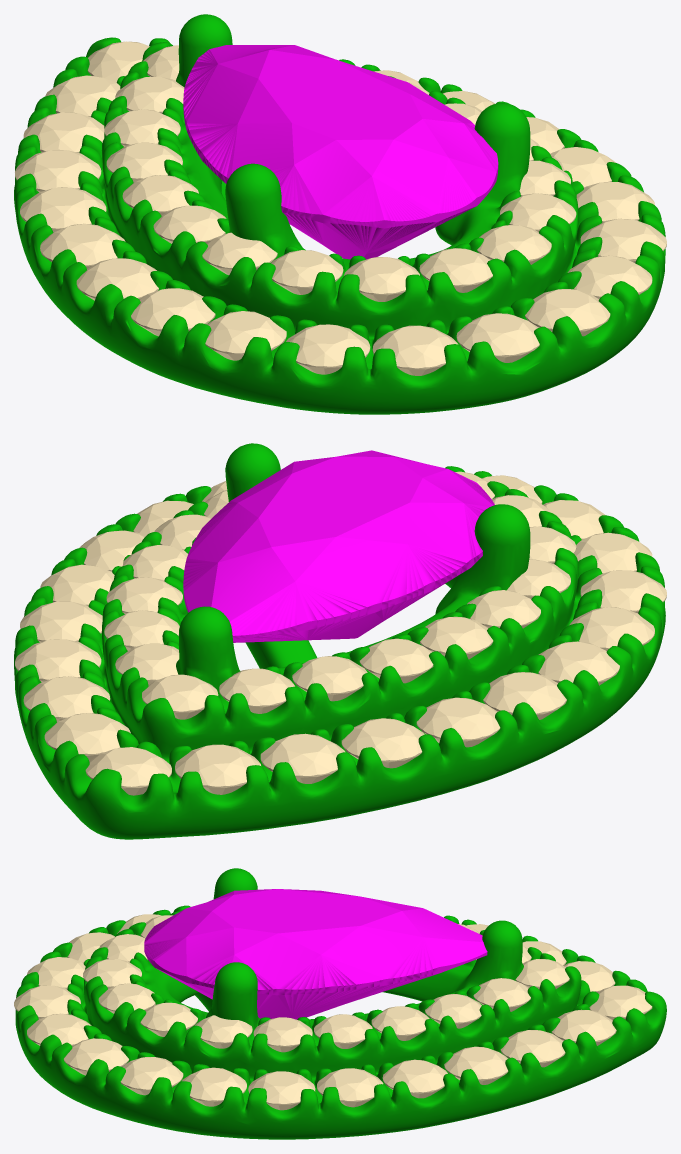
The picture shows the model from 3 angles, top to bottom: view 1: azimuth 30°, elevation 25°; view 2: azimuth 150°, elevation 25°; view 3: azimuth 270°, elevation 25°; orthographic projection. The views are drawn at different scales.
Parts seen in each view (by area): view 1: Metal01, Diamond_Pear, Diamond_Round.028, Diamond_Round.029, Diamond_Round.030, Diamond_Round.031, Diamond_Round.027, Diamond_Round.032, Diamond_Round.035, Diamond_Round.033, Diamond_Round.036, Diamond_Round.034 (+21 smaller); view 2: Metal01, Diamond_Pear, Diamond_Round.035, Diamond_Round.036, Diamond_Round.037, Diamond_Round.038, Diamond_Round.034, Diamond_Round.018, Diamond_Round.033, Diamond_Round.039, Diamond_Round.019, Diamond_Round.020 (+22 smaller); view 3: Metal01, Diamond_Pear, Diamond_Round.021, Diamond_Round.020, Diamond_Round.022, Diamond_Round.019, Diamond_Round.023, Diamond_Round.024, Diamond_Round.025, Diamond_Round.018, Diamond_Round.026, Diamond_Round.039 (+17 smaller).
Part boxes in pixels (x1,y1,x2,y2): Metal01: [14, 14, 665, 414]; Diamond_Pear: [183, 45, 498, 259]; Diamond_Round.028: [456, 313, 539, 362]; Diamond_Round.029: [372, 325, 458, 375]; Diamond_Round.030: [286, 324, 370, 374]; Diamond_Round.031: [205, 311, 286, 360]; Diamond_Round.027: [525, 289, 610, 336]; Diamond_Round.032: [131, 288, 215, 336]; Diamond_Round.035: [20, 187, 106, 232]; Diamond_Round.033: [76, 258, 158, 300]; Diamond_Round.036: [15, 149, 101, 192]; Diamond_Round.034: [40, 223, 125, 268]; Metal01: [14, 443, 665, 839]; Diamond_Pear: [183, 450, 494, 642]; Diamond_Round.035: [416, 697, 500, 747]; Diamond_Round.036: [341, 718, 424, 768]; Diamond_Round.037: [260, 733, 345, 783]; Diamond_Round.038: [175, 744, 260, 794]; Diamond_Round.034: [483, 672, 566, 719]; Diamond_Round.018: [44, 713, 130, 761]; Diamond_Round.033: [538, 641, 619, 685]; Diamond_Round.039: [85, 747, 171, 795]; Diamond_Round.019: [23, 676, 110, 722]; Diamond_Round.020: [15, 639, 101, 682]; Metal01: [15, 868, 666, 1139]; Diamond_Pear: [144, 889, 487, 1019]; Diamond_Round.021: [382, 1059, 447, 1098]; Diamond_Round.020: [444, 1046, 508, 1084]; Diamond_Round.022: [317, 1068, 383, 1107]; Diamond_Round.019: [500, 1030, 565, 1067]; Diamond_Round.023: [248, 1071, 315, 1110]; Diamond_Round.024: [182, 1067, 246, 1106]; Diamond_Round.025: [120, 1057, 183, 1095]; Diamond_Round.018: [551, 1009, 616, 1045]; Diamond_Round.026: [63, 1038, 129, 1075]; Diamond_Round.039: [589, 985, 652, 1020].
Size of the model in its own units: 12.06 by 6.14 by 16.6.
